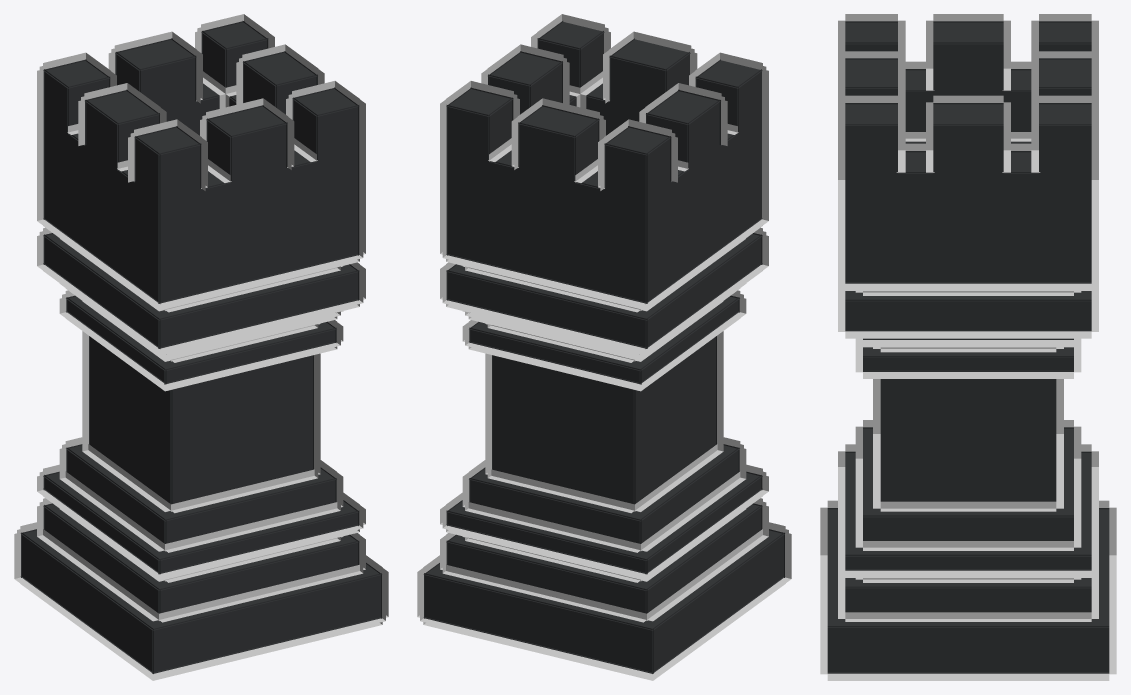
Rendered from black-rook.glb.
The picture shows the model from 3 angles, left to right: view 1: azimuth 30°, elevation 25°; view 2: azimuth 150°, elevation 25°; view 3: azimuth 270°, elevation 25°; orthographic projection. The views are drawn at different scales.
Visible parts, largest first — view 1: chess-rock-black_model; view 2: chess-rock-black_model; view 3: chess-rock-black_model.
Part boxes in pixels (x1=…): chess-rock-black_model: x1=14, y1=14, x2=388, y2=680; chess-rock-black_model: x1=417, y1=14, x2=791, y2=680; chess-rock-black_model: x1=820, y1=14, x2=1116, y2=680.
Size of the model in its own units: 1.68 by 3.48 by 1.68.
2 materials, 1 textured.
